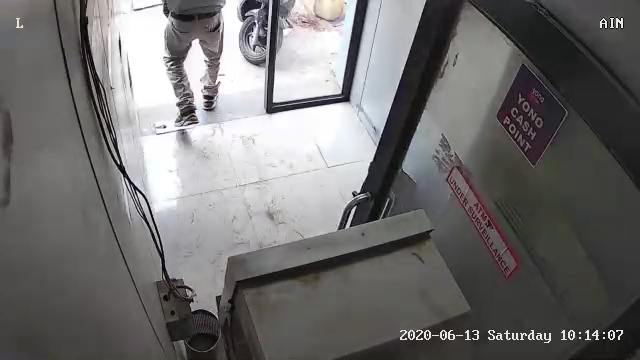open: (115, 3, 381, 155)
